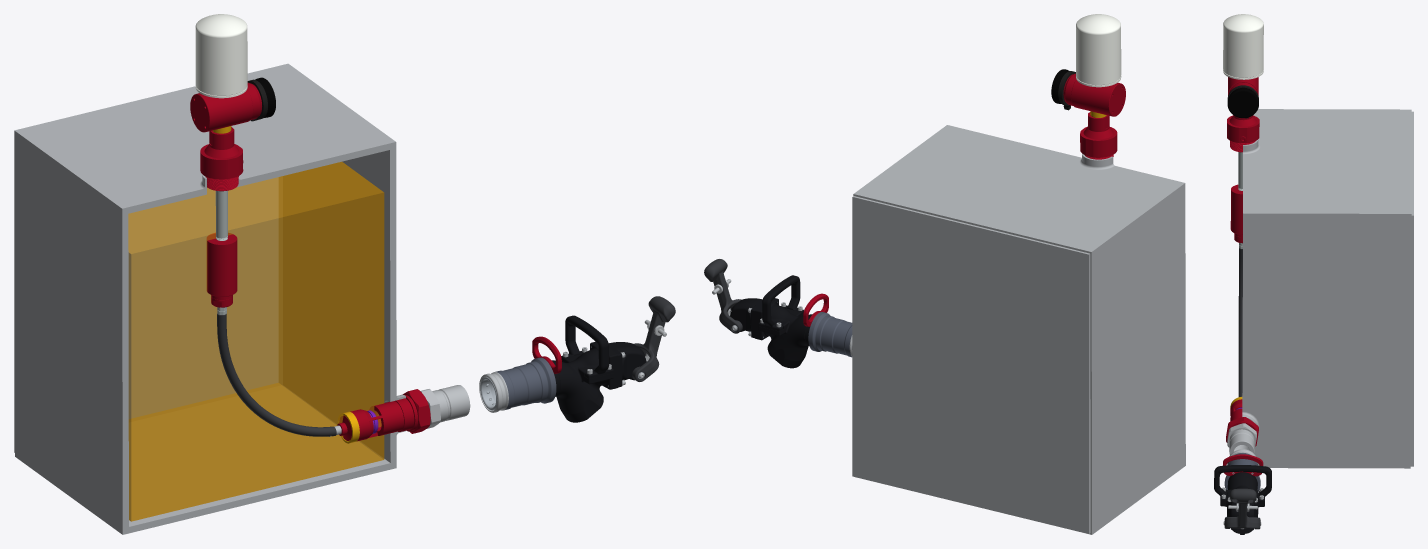
Rendered from system-v2.glb.
3 views of the same model, side by side, from view 1: azimuth 30°, elevation 25°; view 2: azimuth 150°, elevation 25°; view 3: azimuth 270°, elevation 25° (orthographic). The views are drawn at different scales.
Visible parts, largest first — view 1: arbtank_No Back001, Cube.001, Cube, FFV150-PL Defeatured, PLA150-M VLCE def001, N800AT Body Mod, pla-m-16b def001, N800AT Body Mod041, sline001, N800AT Body Mod010, fr1000-m-1, N800AT Body Mod017 (+1 smaller); view 2: Cube, arbtank_No Back001, FFV150-PL Defeatured, N800AT Body Mod, N800AT Body Mod041, PLA150-M VLCE def001, N800AT Body Mod010, N800AT Body Mod017, N800AT Body Mod164; view 3: arbtank_No Back001, FFV150-PL Defeatured, PLA150-M VLCE def001, Cube, N800AT Body Mod010, N800AT Body Mod017, fr1000-m-1, sline001, N800AT Body Mod, pla-m-16b def001, N800AT Body Mod164, N800AT Body Mod042 (+1 smaller).
Part boxes in pixels (<box>): arbtank_No Back001: <box>14,63,405,534</box>; Cube.001: <box>128,161,384,521</box>; Cube: <box>14,177,282,452</box>; FFV150-PL Defeatured: <box>190,14,275,133</box>; PLA150-M VLCE def001: <box>200,127,243,314</box>; N800AT Body Mod: <box>552,342,618,422</box>; pla-m-16b def001: <box>350,389,430,441</box>; N800AT Body Mod041: <box>495,357,556,409</box>; sline001: <box>217,313,336,436</box>; N800AT Body Mod010: <box>632,296,675,381</box>; fr1000-m-1: <box>420,385,470,428</box>; N800AT Body Mod017: <box>561,315,613,378</box>; Cube: <box>852,196,1090,533</box>; arbtank_No Back001: <box>853,125,1185,534</box>; FFV150-PL Defeatured: <box>1051,14,1125,117</box>; N800AT Body Mod: <box>754,298,812,368</box>; N800AT Body Mod041: <box>808,312,852,357</box>; PLA150-M VLCE def001: <box>1080,112,1117,159</box>; N800AT Body Mod010: <box>704,259,742,333</box>; N800AT Body Mod017: <box>758,275,803,331</box>; N800AT Body Mod164: <box>730,298,762,338</box>; arbtank_No Back001: <box>1242,109,1411,468</box>; FFV150-PL Defeatured: <box>1223,14,1263,118</box>; PLA150-M VLCE def001: <box>1227,115,1259,248</box>; Cube: <box>1410,111,1413,466</box>; N800AT Body Mod010: <box>1224,488,1260,529</box>; N800AT Body Mod017: <box>1214,465,1271,502</box>; fr1000-m-1: <box>1227,423,1256,454</box>; sline001: <box>1238,248,1242,396</box>; N800AT Body Mod: <box>1220,472,1264,507</box>; pla-m-16b def001: <box>1226,399,1258,446</box>; N800AT Body Mod164: <box>1227,495,1258,534</box>; N800AT Body Mod042: <box>1223,454,1263,476</box>.
Bounding box in the file's own units: 1.12 × 0.9602 × 0.4522.
